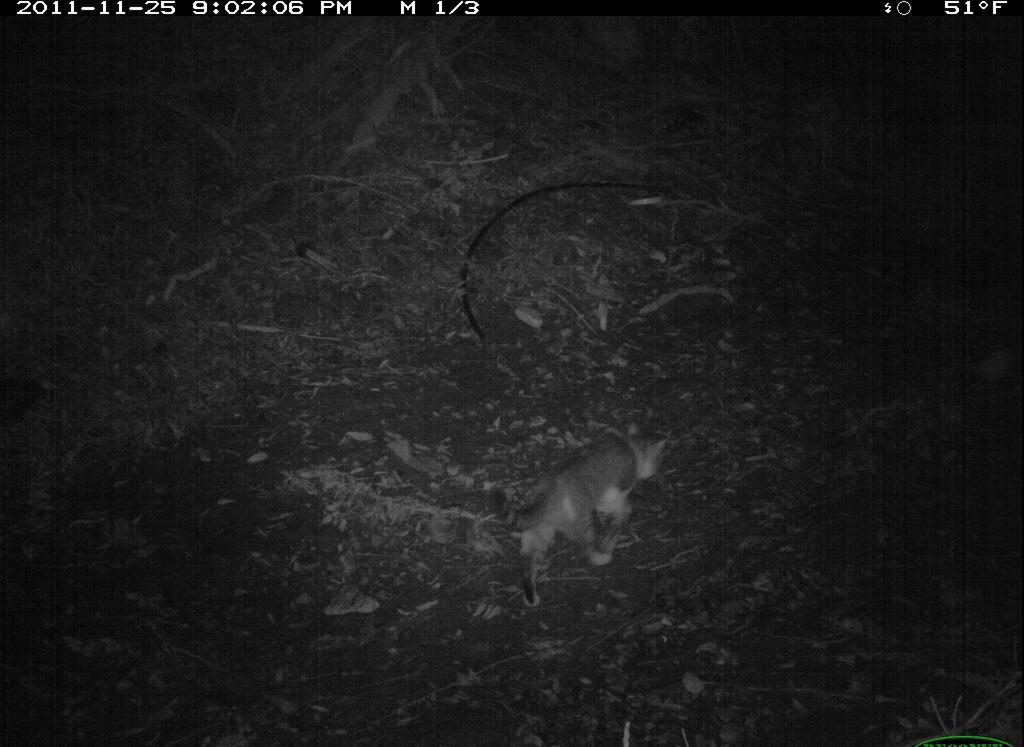cat: (484, 418, 676, 614)
